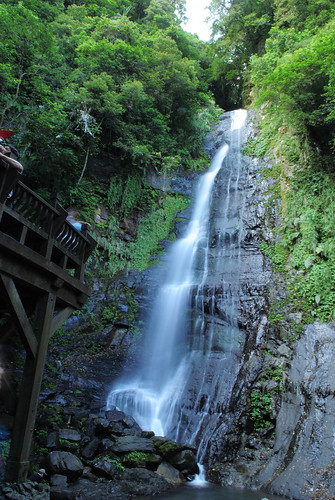wufengciWaterfall: (113, 97, 261, 442)
